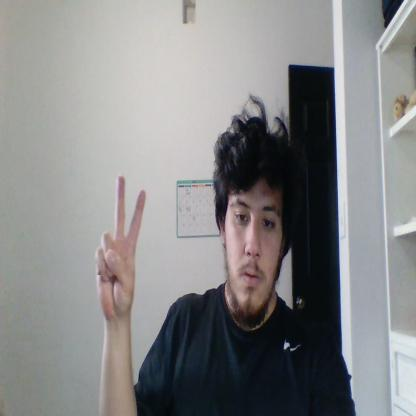V: (96, 176, 146, 319)
